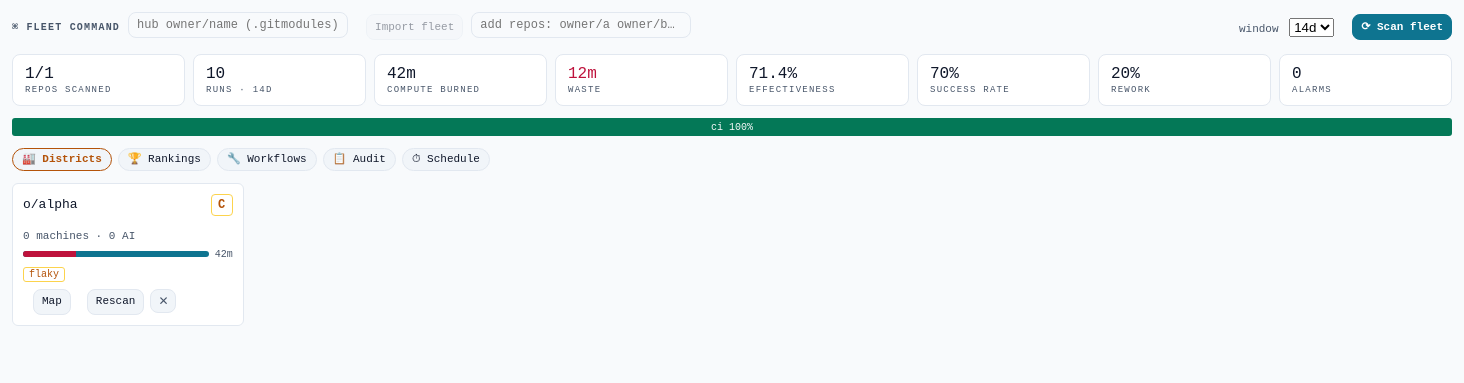
FleetOpsPanel › gives sibling findings (same rule+path) independent file-issue buttons
The image size is (1464, 383).
Click the button "📋 Audit". click: {"x": 359, "y": 159}
box: [323, 148, 396, 170]
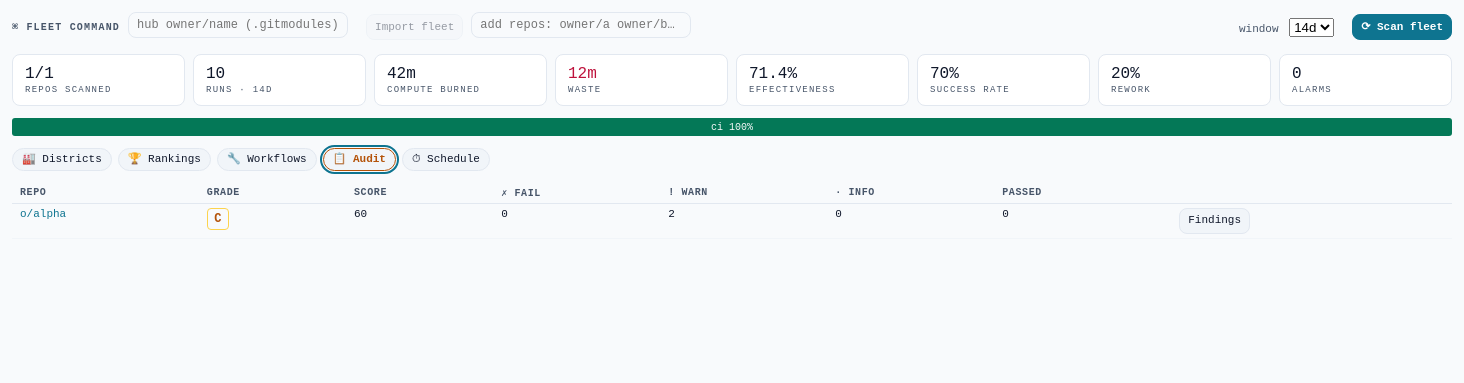
Click the button "Findings". click: {"x": 1215, "y": 220}
box: [1179, 208, 1250, 234]
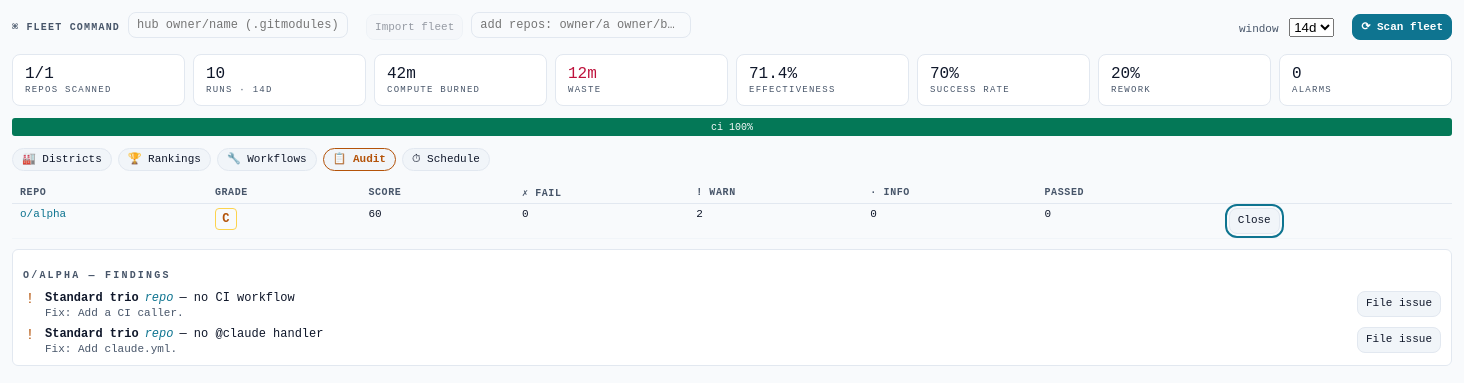
Result: the text "no CI workflow" is shown at [194, 290, 295, 304]
Result: the text "no @claude handler" is shown at [194, 326, 323, 340]
Result: the number of buttons "File issue" is 2 at [1357, 290, 1441, 316]; [1357, 326, 1441, 352]
